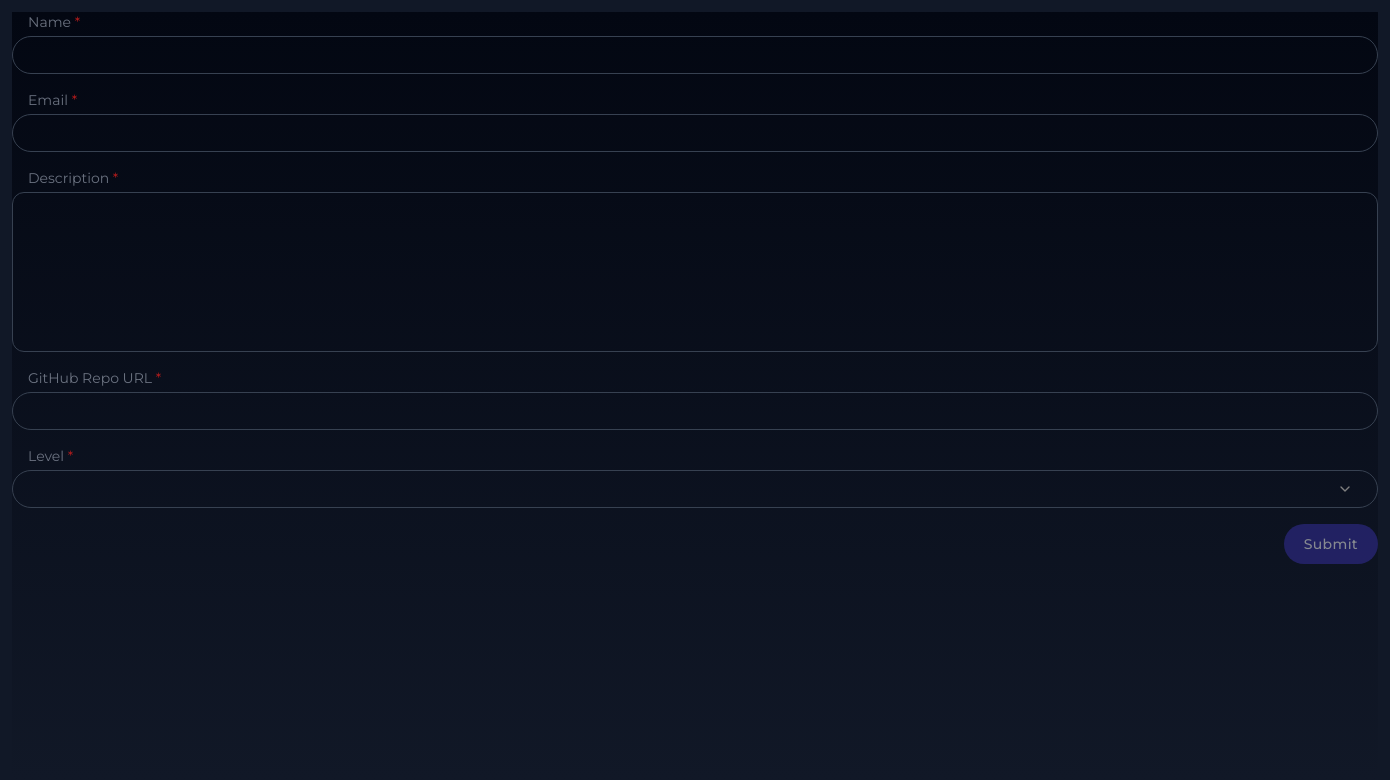
Test: Validation errors displayed › Validation errors email field
The image size is (1390, 780).
In the field labelled "Email *": (695, 133) [12,114,1378,152], type "test"
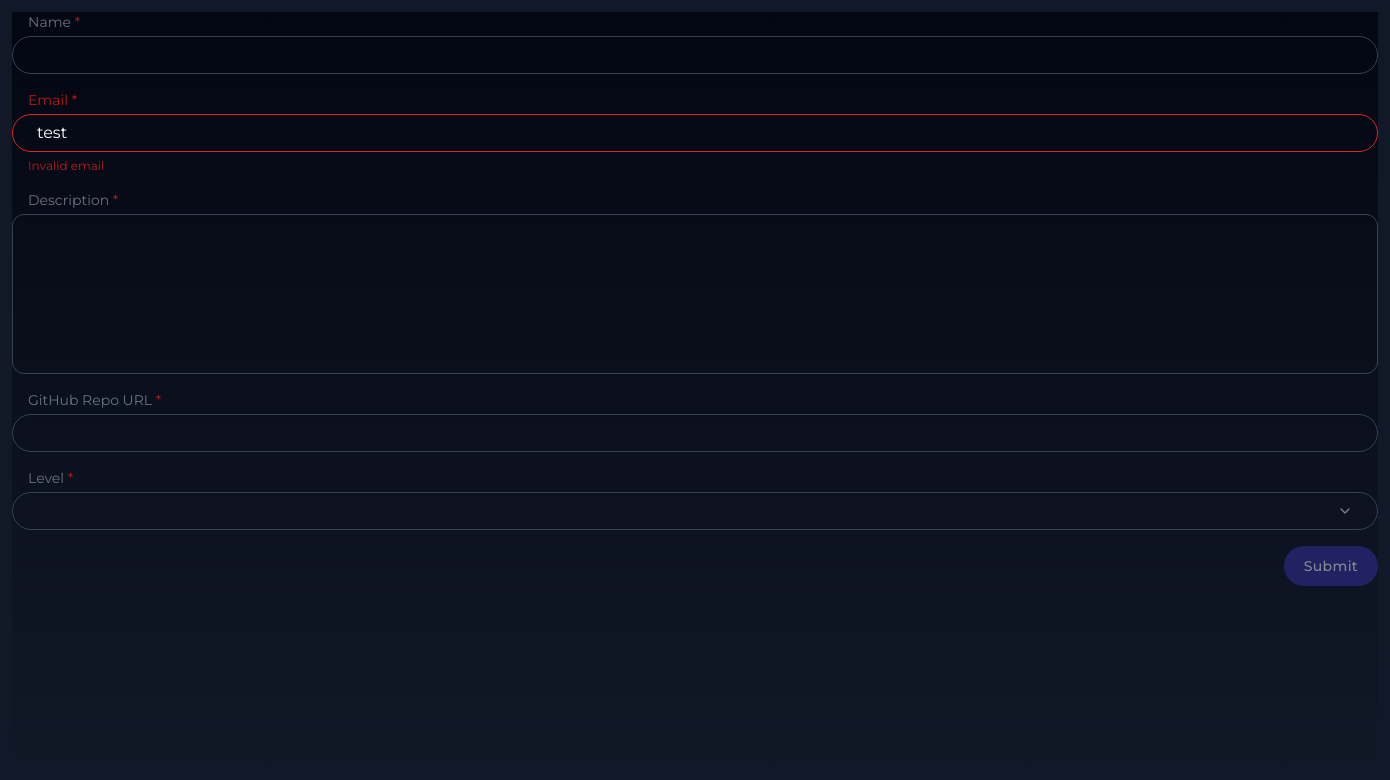
In the field labelled "Email *": (695, 133) [12,114,1378,152], type "test@test.io"
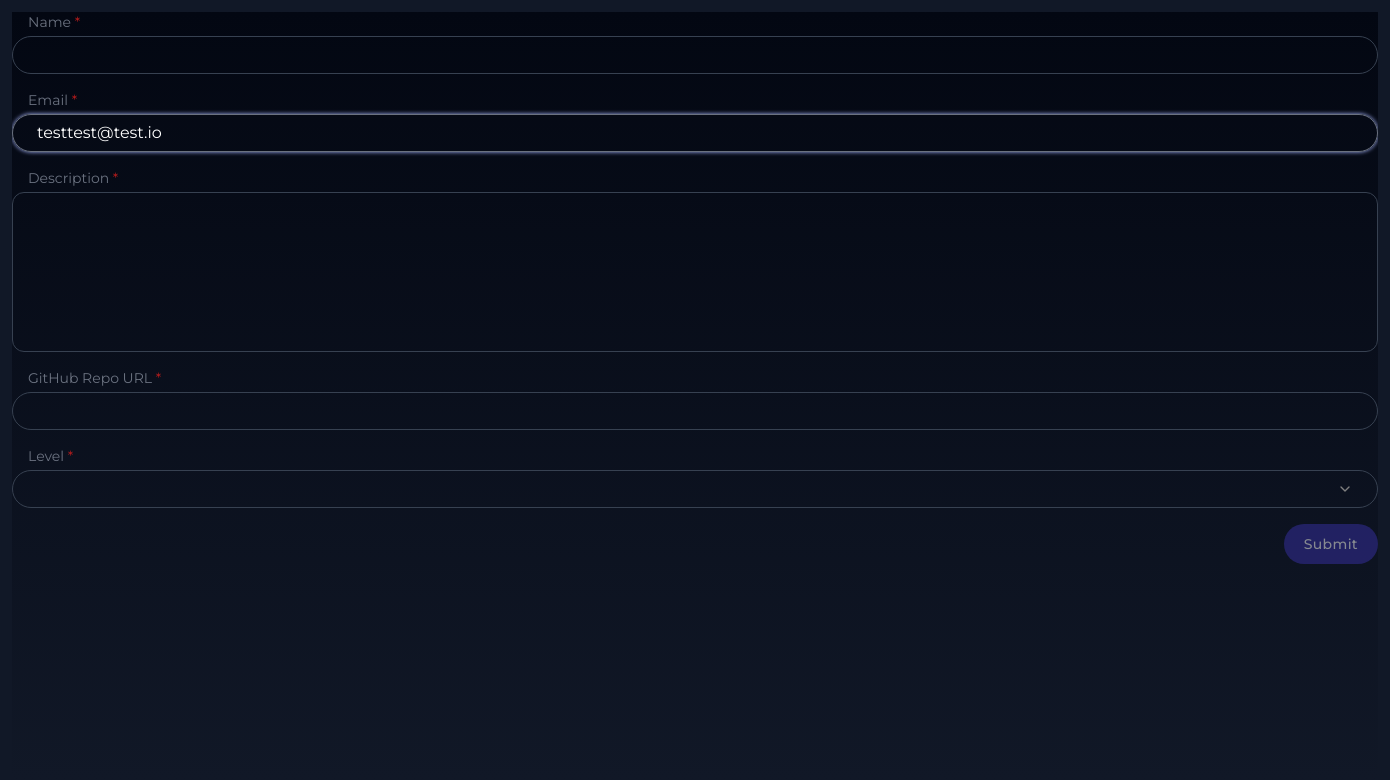
Expected: the text with test id "input-email-helperText" is gone
